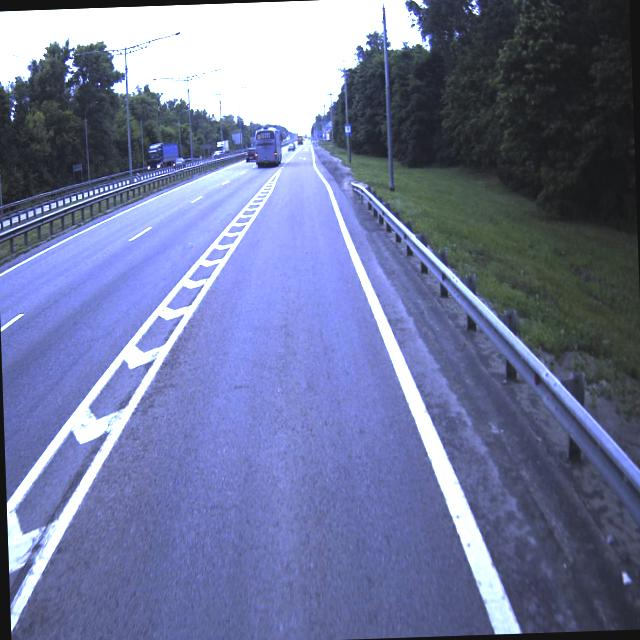road: (0, 142, 576, 640)
